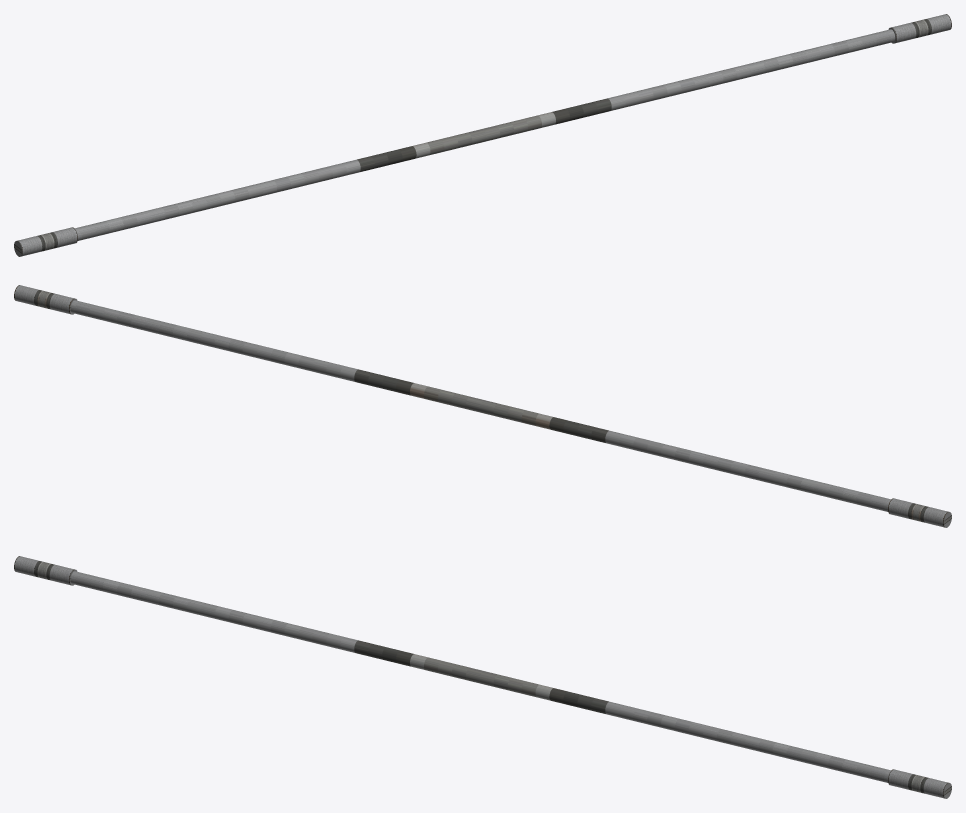
Rendered from conduit.glb.
3 renders of one model, top to bottom at view 1: azimuth 30°, elevation 25°; view 2: azimuth 150°, elevation 25°; view 3: azimuth 330°, elevation 25°, orthographic.
Parts seen in each view (by area): view 1: barrel, flange (×2); view 2: barrel, flange (×2); view 3: barrel, flange (×2).
Boxes of the visible parts, x1,y1,x2,y2 form: barrel: (75, 29, 895, 240); flange (×2): (14, 14, 951, 256); barrel: (70, 300, 890, 511); flange (×2): (14, 285, 951, 527); barrel: (70, 571, 890, 782); flange (×2): (14, 556, 951, 798).
Bounding box in the file's own units: 1.5 × 0.023 × 0.023.
Materials: 1 (1 with a texture image).
